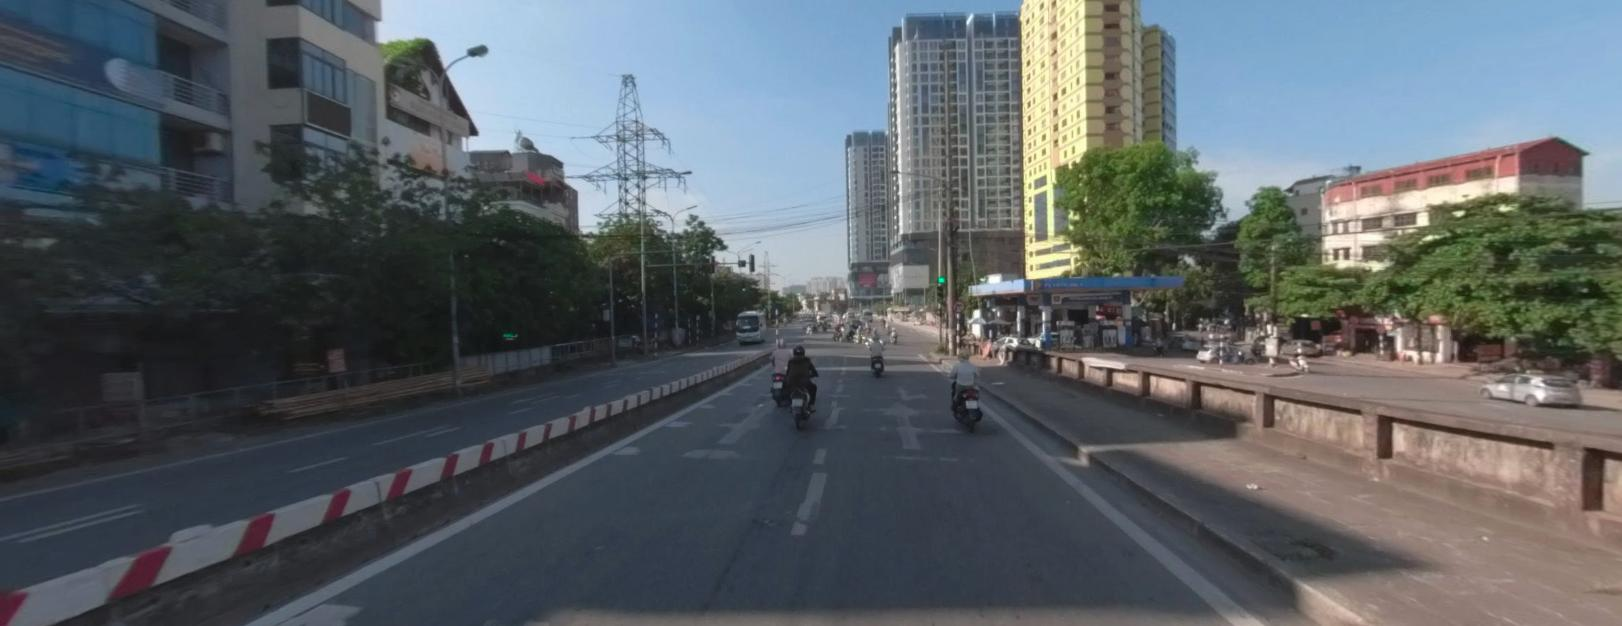Cam re: (952, 297, 965, 311)
